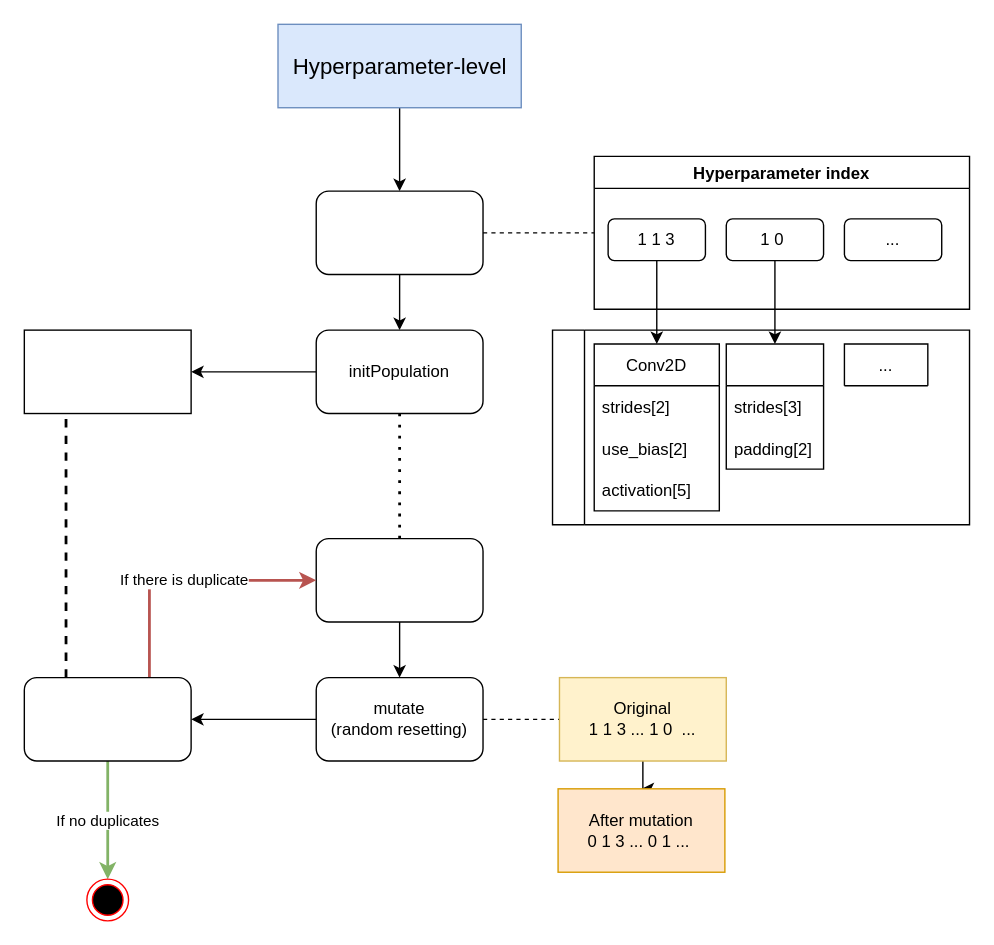
This 994x945 diagram has some shape labels left out. The shapes that lost their labels are listed below. From the top down, each one's box as (x1, y1, x2, y2) in pixels, then its label:
(315, 190, 483, 275): chromosome
(23, 329, 191, 414): Population History
(725, 343, 824, 469): MaxPool2D
(551, 329, 970, 525): AlexNet
(315, 537, 483, 622): crossover (Uniform crossover)
(23, 676, 191, 761): check duplicates
